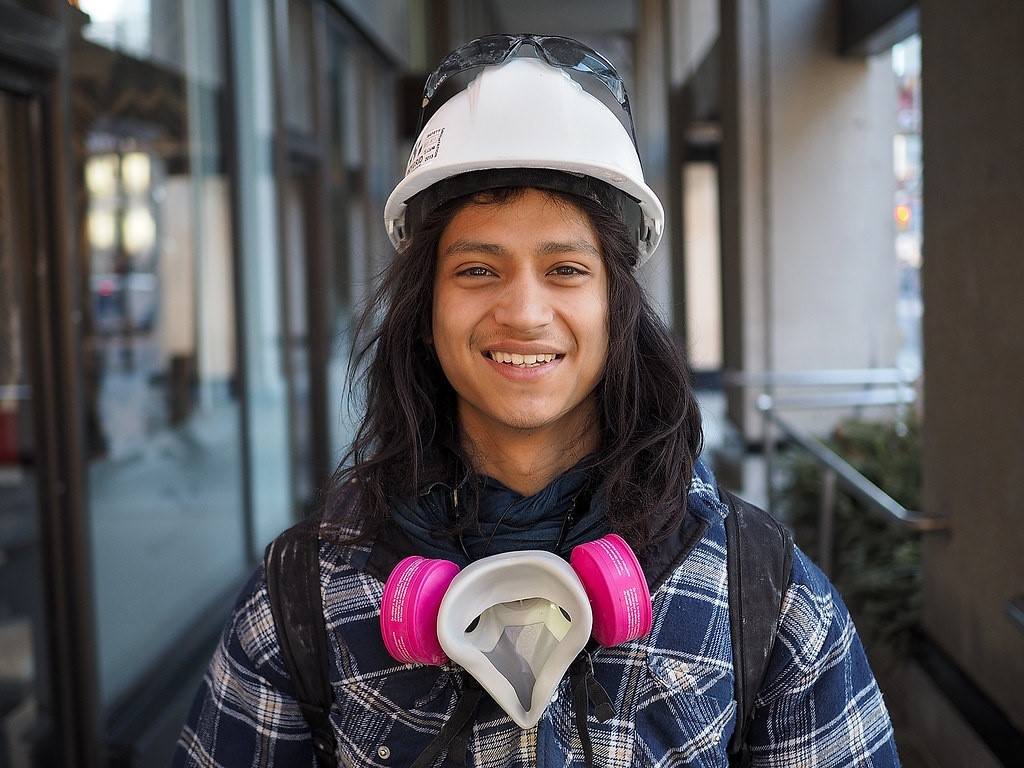face_no_mask: (404, 145, 633, 431)
